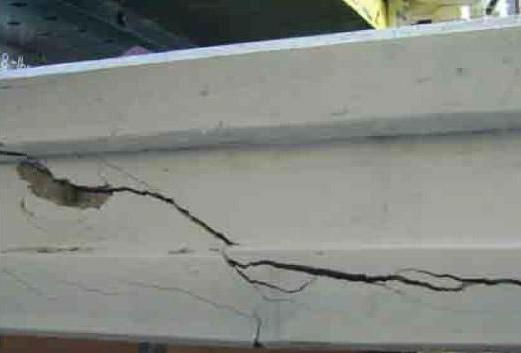crack: (21, 159, 236, 246), (221, 252, 521, 293), (142, 284, 265, 348), (99, 156, 152, 188), (3, 270, 56, 300), (18, 194, 49, 234), (63, 281, 118, 297)
damage: (16, 164, 110, 209)
